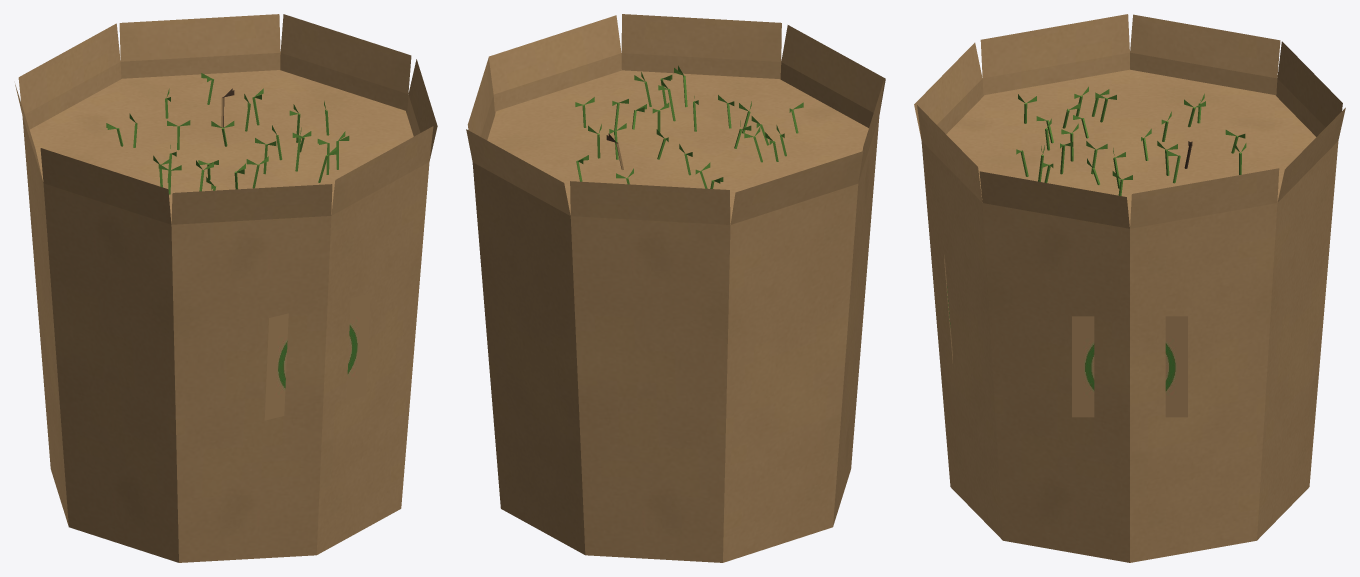
Rendered from plant_container_open.glb.
The picture shows the model from 3 angles, left to right: view 1: azimuth 30°, elevation 25°; view 2: azimuth 150°, elevation 25°; view 3: azimuth 270°, elevation 25°; orthographic projection.
Visible parts, largest first — view 1: PlantContainerOpenBody; view 2: PlantContainerOpenBody; view 3: PlantContainerOpenBody.
Boxes of the visible parts, <box> form: PlantContainerOpenBody: <box>15,14,437,562</box>; PlantContainerOpenBody: <box>466,14,885,562</box>; PlantContainerOpenBody: <box>914,14,1345,562</box>.
Size of the model in its own units: 0.7459 by 0.73 by 0.7459.
4 materials, 3 textured.
